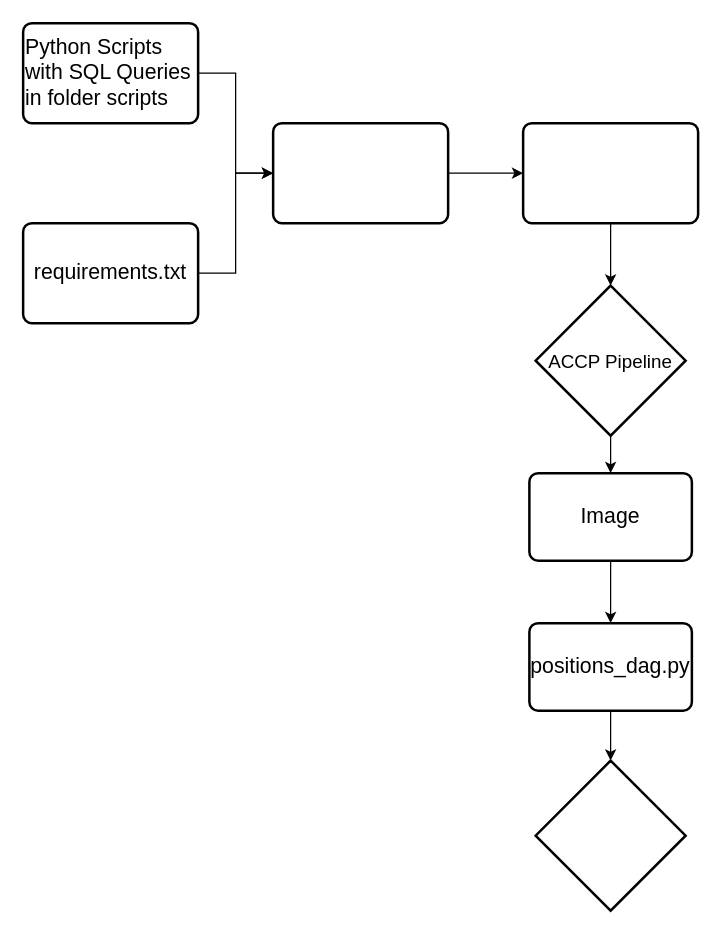
The diagram is 720 pixels wide and 933 high, and some of its shapes have lost their labels. Here are the shapes that lost their labels. From the top down, the box of each, then its label:
(271, 121, 449, 224): Dockerfile
(521, 121, 699, 224): accp.yaml
(534, 759, 686, 911): Alpache Airflow
